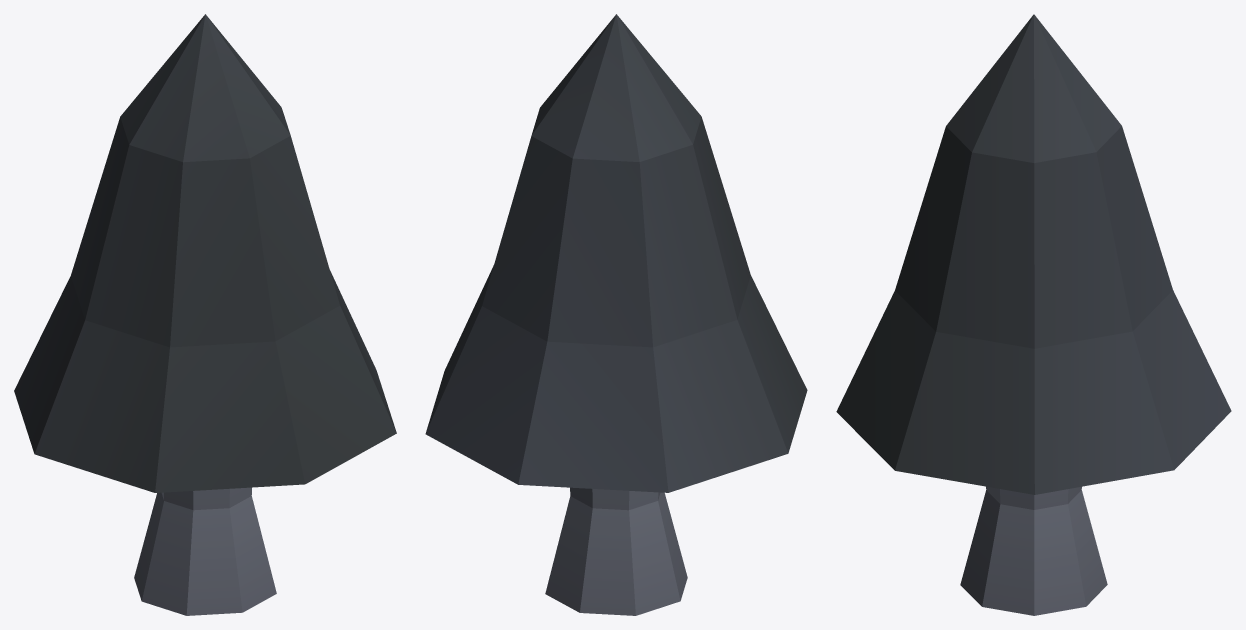
The model's file is Mushroom_18.fbx.
3 views of the same model, side by side, from view 1: azimuth 30°, elevation 25°; view 2: azimuth 150°, elevation 25°; view 3: azimuth 270°, elevation 25° (orthographic).
Parts seen in each view (by area): view 1: Mushroom_18; view 2: Mushroom_18; view 3: Mushroom_18.
Part boxes in pixels (x1=…): Mushroom_18: x1=14, y1=14, x2=396, y2=615; Mushroom_18: x1=425, y1=14, x2=807, y2=615; Mushroom_18: x1=836, y1=14, x2=1231, y2=615.
Size of the model in its own units: 0.8288 by 1.32 by 0.8288.
